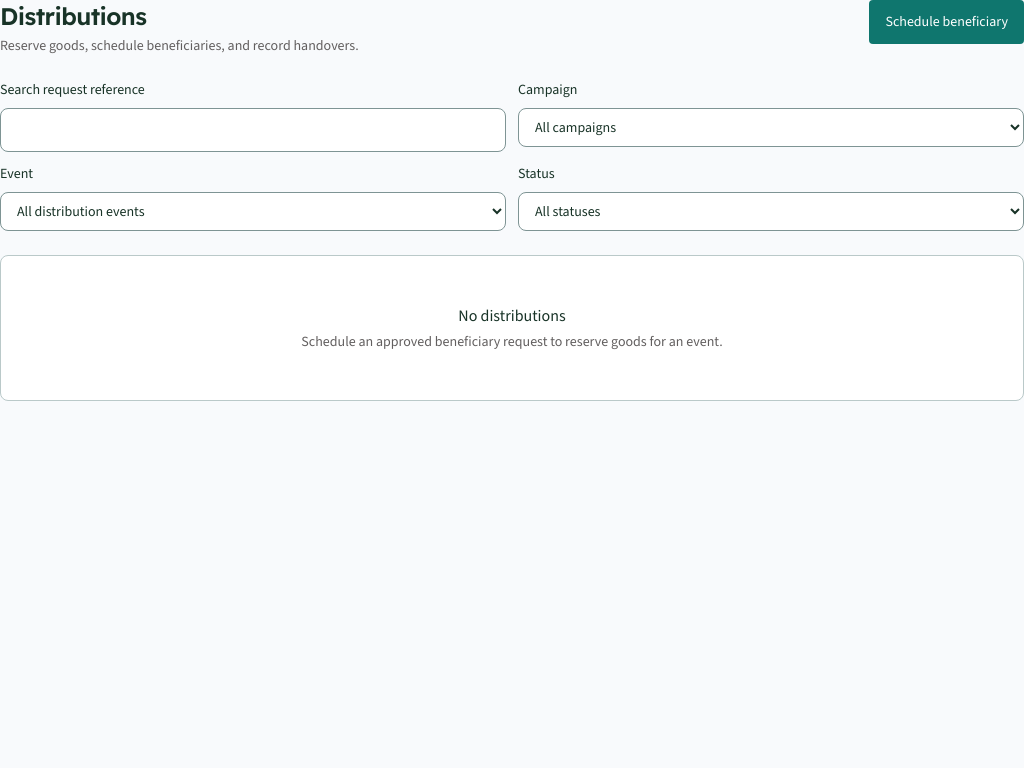
M4 scheduling screens › opens scheduling from the distributions page
Expected: the text "No distributions" is shown, [458,305,566,326]
Click the button "Schedule beneficiary" at (947, 22), box [869,0,1023,44]
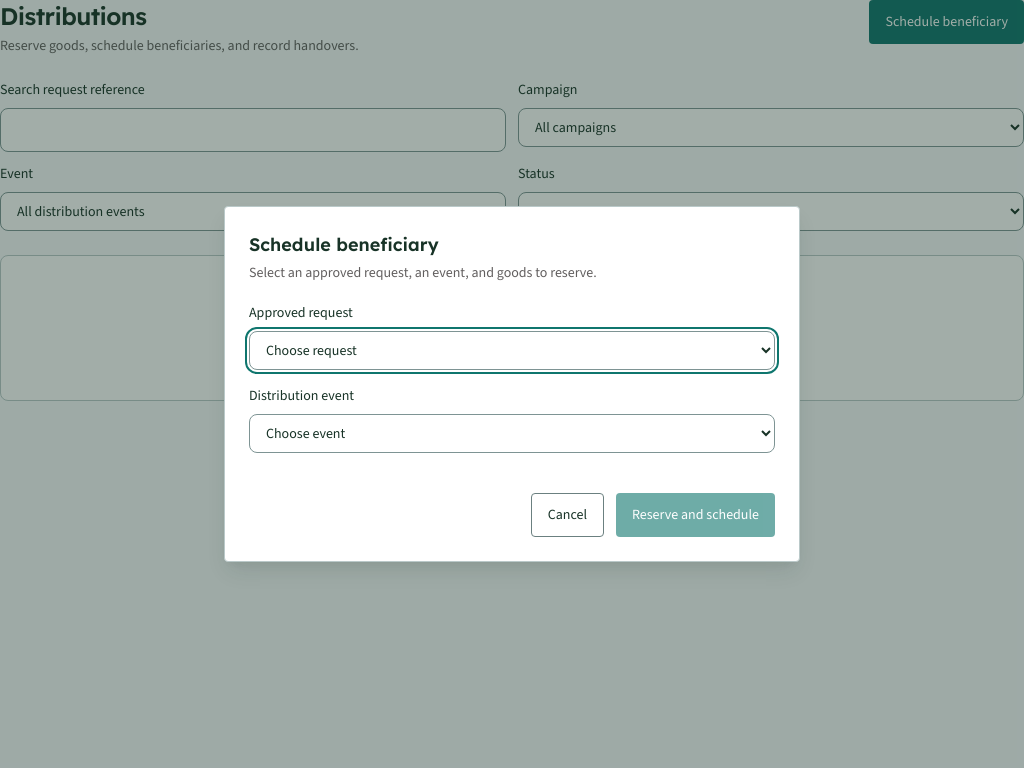
Now the dialog is shown, box [224,206,800,562]
Now the button "Reserve and schedule" is disabled, box [616,493,775,537]
